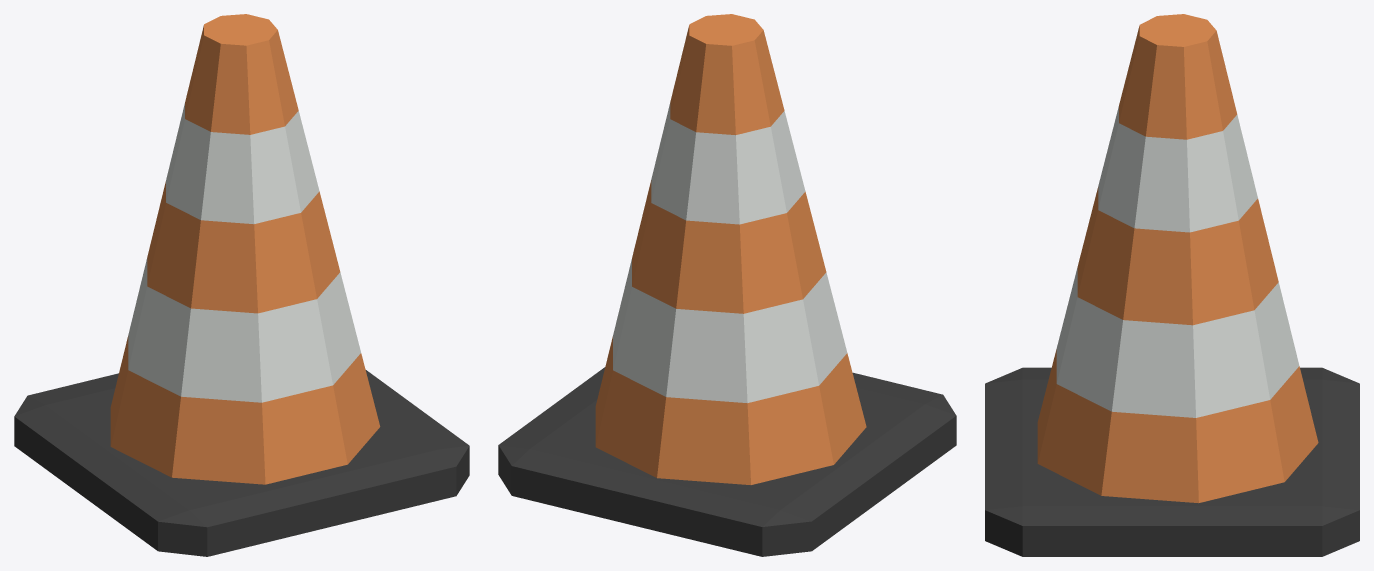
The picture shows the model from 3 angles, left to right: view 1: azimuth 30°, elevation 25°; view 2: azimuth 150°, elevation 25°; view 3: azimuth 270°, elevation 25°; orthographic projection. The views are drawn at different scales.
Parts seen in each view (by area): view 1: Cube.010; view 2: Cube.010; view 3: Cube.010.
Part boxes in pixels (x1,y1,x2,y2): Cube.010: [14, 14, 469, 556]; Cube.010: [498, 14, 956, 556]; Cube.010: [985, 14, 1359, 556].
Bounding box in the file's own units: 0.595 × 0.7901 × 0.595.
